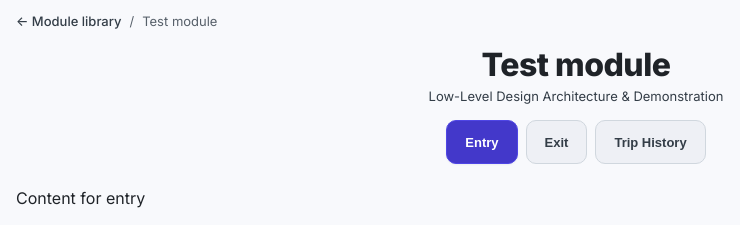
Scenario: Module tab navigation › still renders when session storage is blocked
Click the tab "Exit": (556, 142) left=526, top=120, right=587, bottom=164
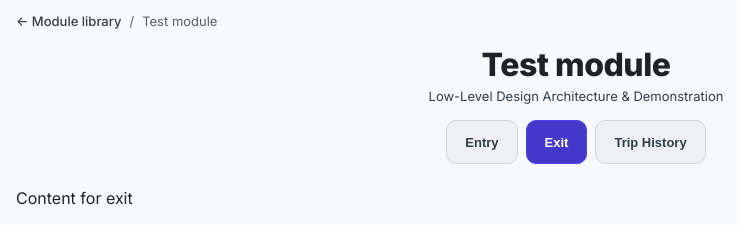
Result: the text "Content for exit" is shown at left=16, top=188, right=133, bottom=208
